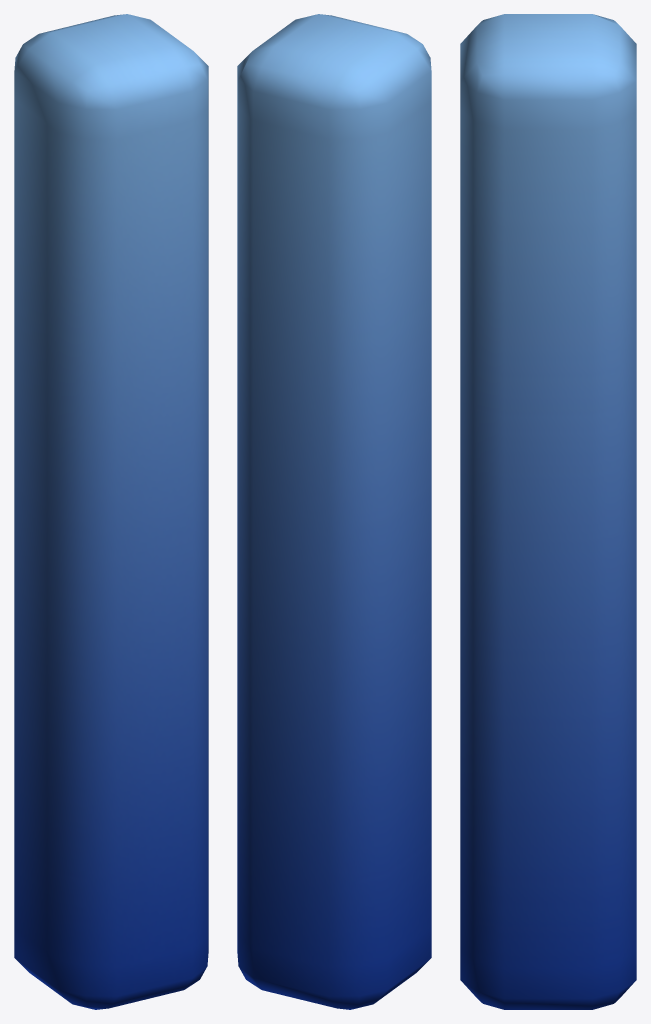
Rendered from player.obj.
3 views of the same model, side by side, from view 1: azimuth 30°, elevation 25°; view 2: azimuth 150°, elevation 25°; view 3: azimuth 270°, elevation 25° (orthographic).
Visible parts, largest first — view 1: Cube.002; view 2: Cube.002; view 3: Cube.002.
Part boxes in pixels (<box>): Cube.002: <box>14,14,208,1009</box>; Cube.002: <box>237,14,431,1009</box>; Cube.002: <box>460,14,636,1009</box>.
Bounding box in the file's own units: 7.2 × 43.2 × 7.2.
Materials: 1 (1 with a texture image).
